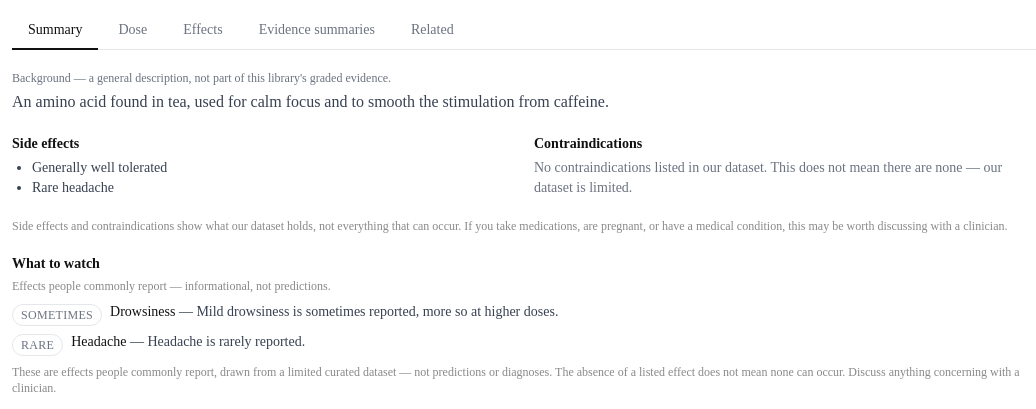
it: SupplementDetail — the evidence breakdown (U4, FU-63) › an effect shows its evidence breakdown
This screenshot has width=1036, height=409.
Click the tab "Effects". click: (203, 31)
box: [167,12,239,50]
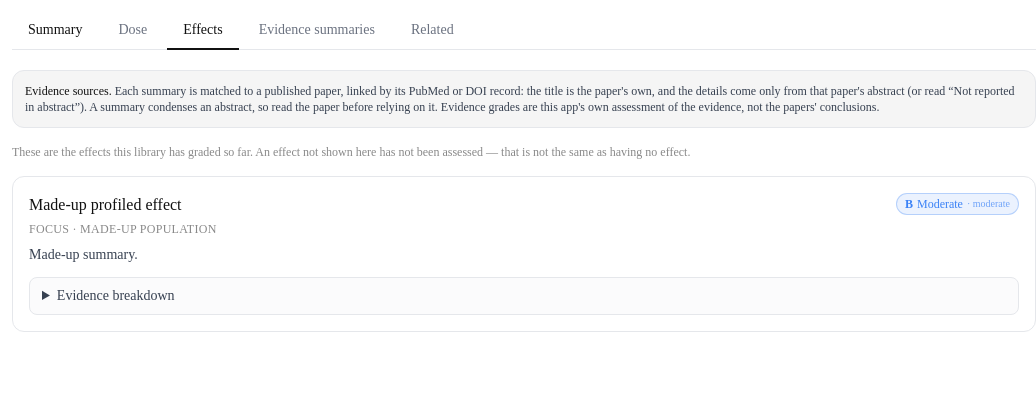
Expected: the heading "Evidence breakdown" is shown, [57,288,175,303]
